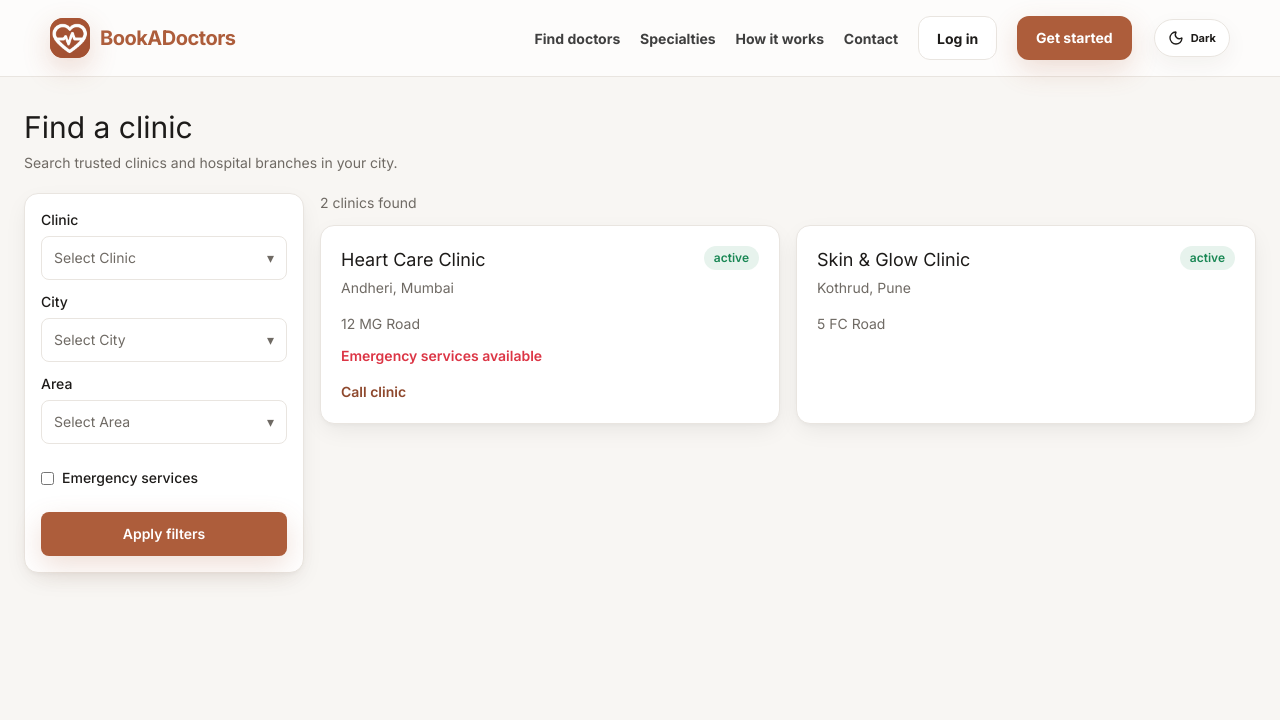
ClinicSearch › narrows results by city filter
Select "Pune" in the dropdown labelled "City" at (164, 327), box x1=41 y1=292 x2=287 y2=362
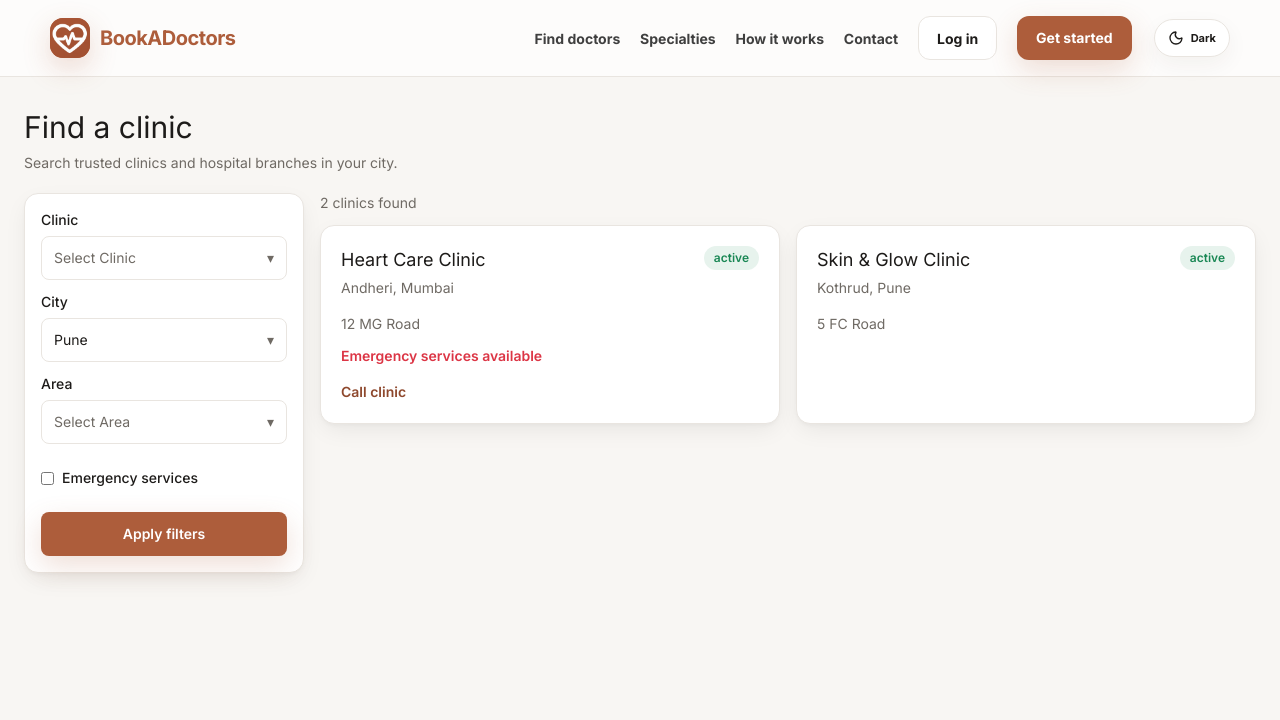
Click the button "Apply filters".
click(164, 534)  # box x1=41 y1=512 x2=287 y2=556
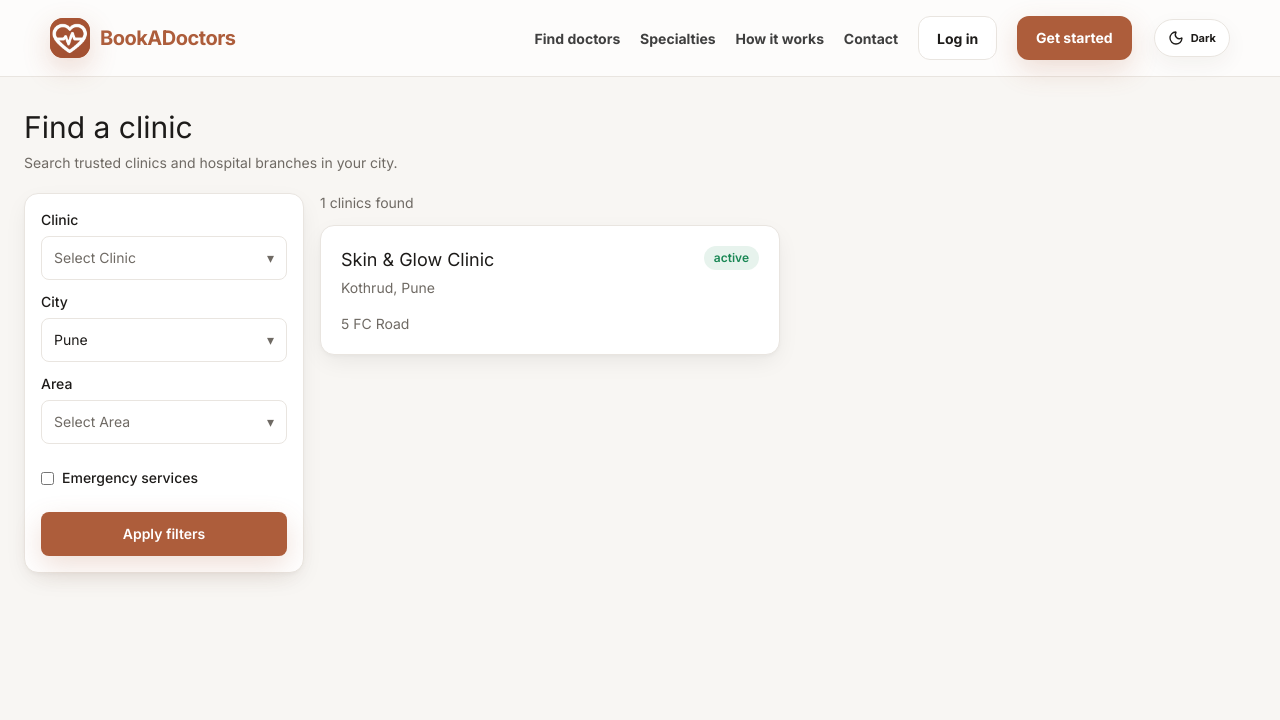
Expected: the heading "Skin & Glow Clinic" is shown, x1=341 y1=246 x2=494 y2=274
Expected: the text "1 clinics found" is shown, x1=320 y1=194 x2=414 y2=211
Expected: the heading "Heart Care Clinic" is gone
